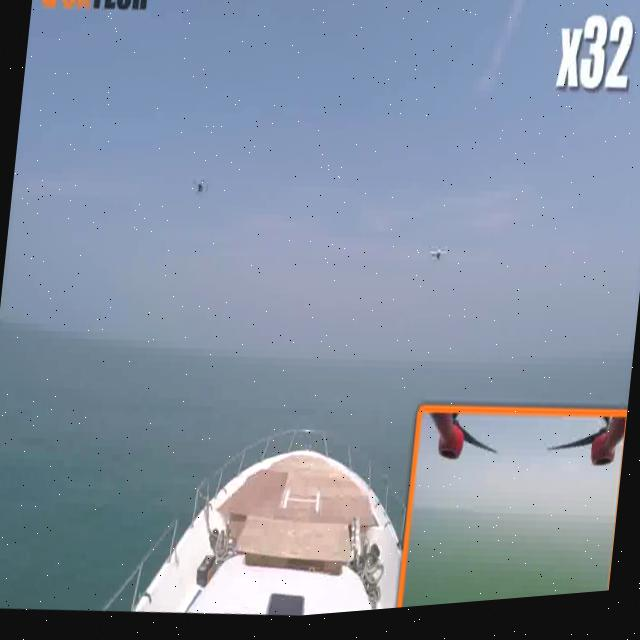drone: (420, 242, 452, 285), (187, 169, 214, 209)
